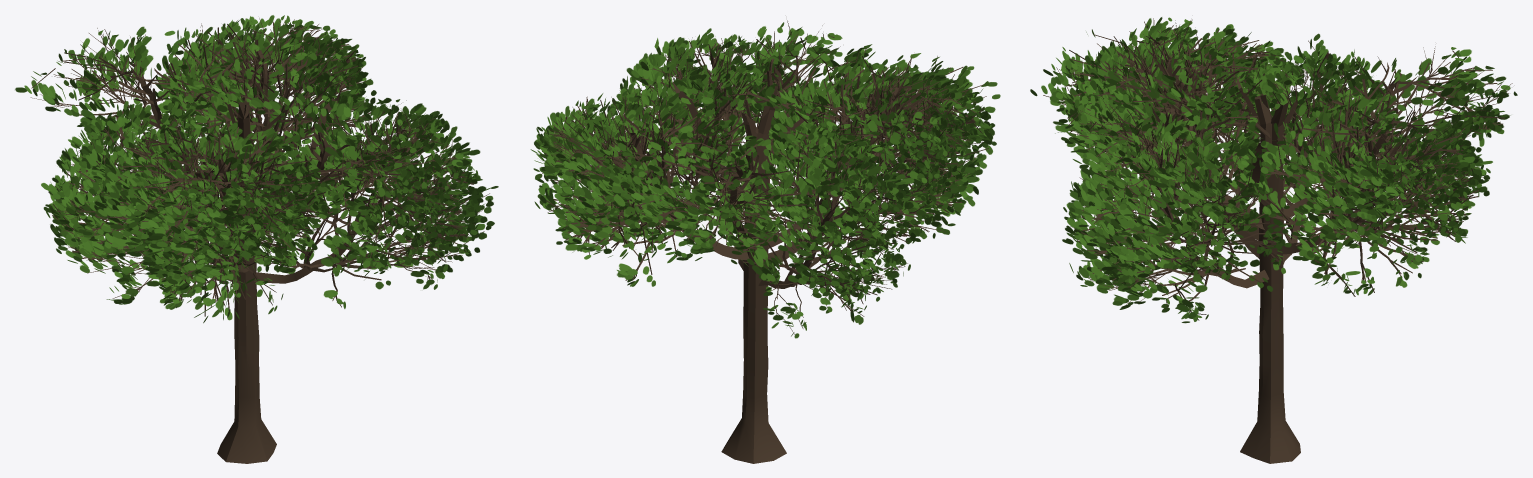
3 renders of one model, left to right at view 1: azimuth 30°, elevation 25°; view 2: azimuth 150°, elevation 25°; view 3: azimuth 270°, elevation 25°, orthographic. The views are drawn at different scales.
Visible parts, largest first — view 1: oak 01.001_trunk_Mat.001_0.120; view 2: oak 01.001_trunk_Mat.001_0.120; view 3: oak 01.001_trunk_Mat.001_0.120.
Part boxes in pixels (x1,y1,x2,y2): oak 01.001_trunk_Mat.001_0.120: [15, 15, 498, 463]; oak 01.001_trunk_Mat.001_0.120: [530, 20, 1000, 463]; oak 01.001_trunk_Mat.001_0.120: [1030, 17, 1517, 463].
Size of the model in its own units: 3.88 by 3.52 by 4.2.
Materials: 2 (1 with a texture image).
